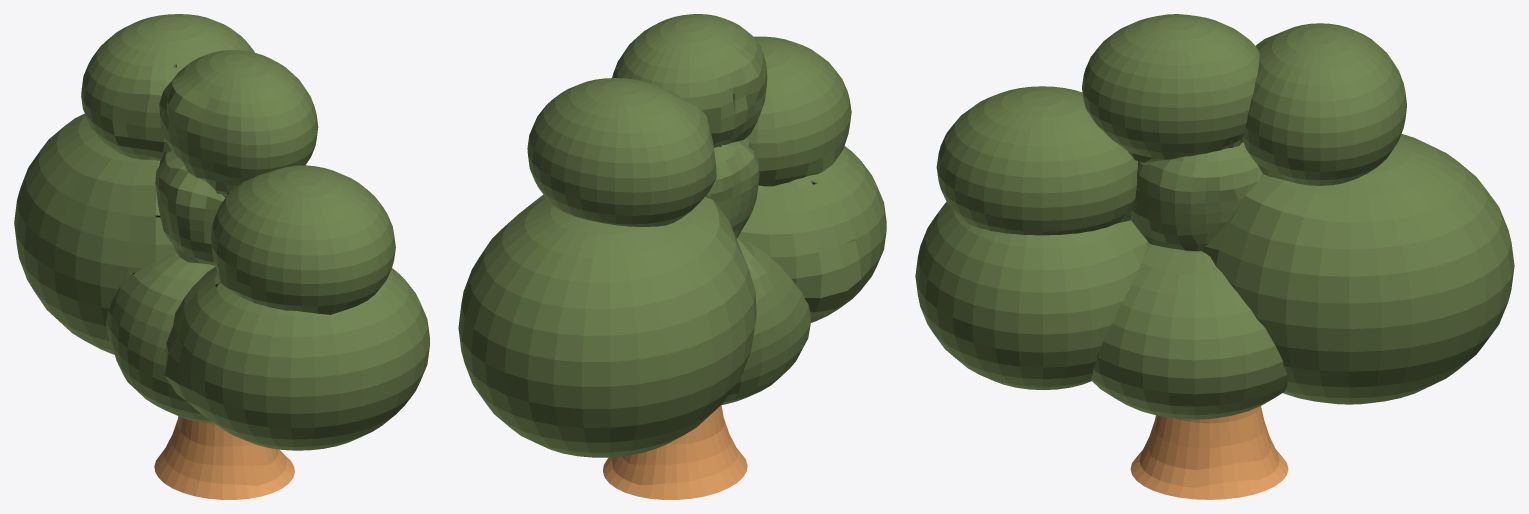
Rendered from Big TreeT DY.fbx.
3 renders of one model, left to right at view 1: azimuth 30°, elevation 25°; view 2: azimuth 150°, elevation 25°; view 3: azimuth 270°, elevation 25°, orthographic. The views are drawn at different scales.
Visible parts, largest first — view 1: Tree; view 2: Tree; view 3: Tree.
Boxes of the visible parts, left/top/right/bottom form: Tree: left=14, top=14, right=429, bottom=499; Tree: left=458, top=14, right=886, bottom=499; Tree: left=915, top=14, right=1514, bottom=499.
Bounding box in the file's own units: 693 × 1076 × 1309.
